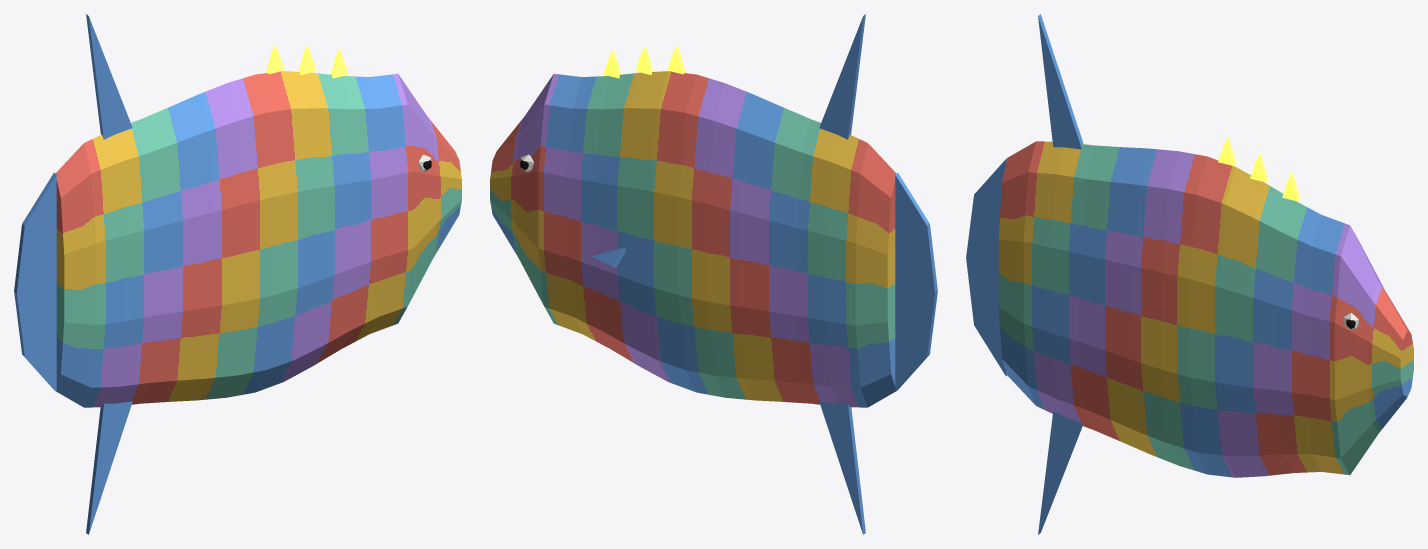
File: the_odd_one.glb
The picture shows the model from 3 angles, left to right: view 1: azimuth 30°, elevation 25°; view 2: azimuth 150°, elevation 25°; view 3: azimuth 330°, elevation 25°; orthographic projection.
Parts seen in each view (by area): view 1: fish_the_odd_one; view 2: fish_the_odd_one; view 3: fish_the_odd_one.
Boxes of the visible parts, left/top/right/bottom form: fish_the_odd_one: left=14, top=14, right=461, bottom=534; fish_the_odd_one: left=490, top=14, right=937, bottom=534; fish_the_odd_one: left=966, top=14, right=1413, bottom=534.
Bounding box in the file's own units: 1.1 × 1.24 × 0.1745.
5 materials, 1 textured.
